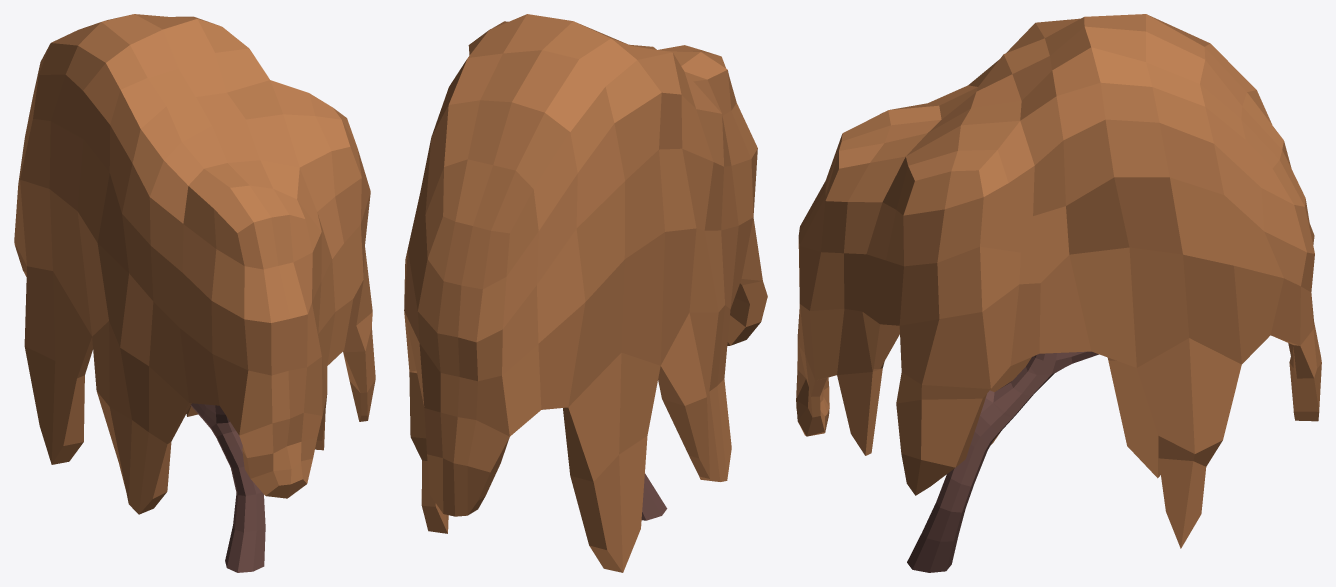
Rendered from willow_autumn_1.glb.
3 views of the same model, side by side, from view 1: azimuth 30°, elevation 25°; view 2: azimuth 150°, elevation 25°; view 3: azimuth 270°, elevation 25° (orthographic). The views are drawn at different scales.
Visible parts, largest first — view 1: Willow_Autumn_1; view 2: Willow_Autumn_1; view 3: Willow_Autumn_1.
Part boxes in pixels (x1,y1,x2,y2): Willow_Autumn_1: [14, 14, 375, 572]; Willow_Autumn_1: [404, 14, 767, 572]; Willow_Autumn_1: [796, 14, 1321, 572].
Bounding box in the file's own units: 3.48 × 6.83 × 6.13.
